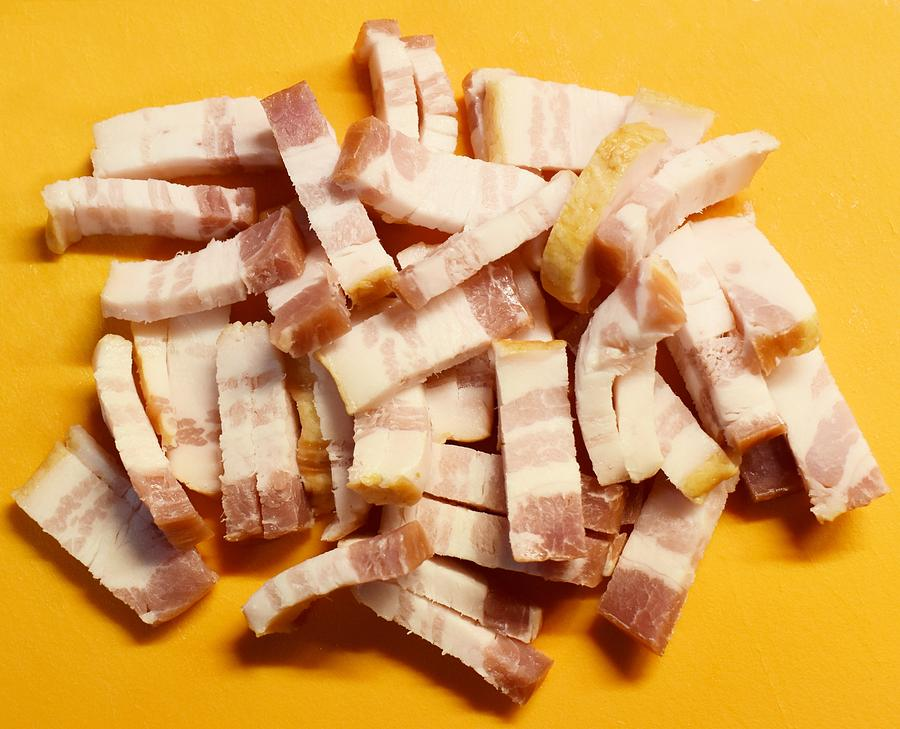bacon: (76, 88, 722, 685)
